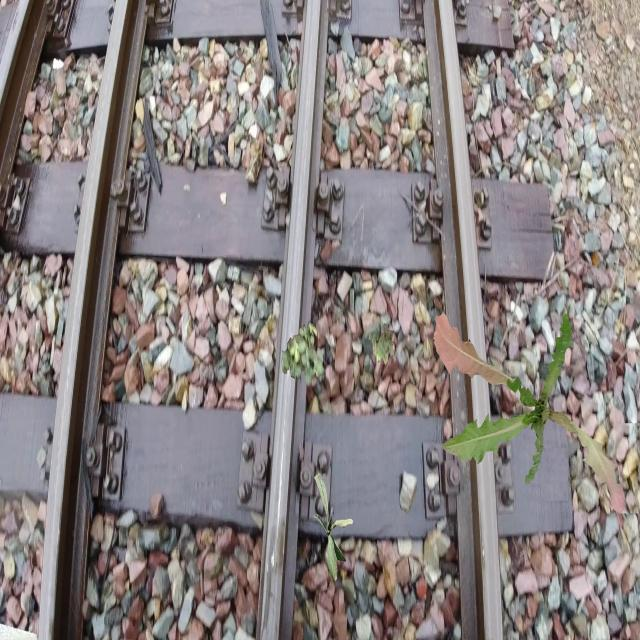Plant: (433, 312, 626, 514), (314, 473, 354, 583), (281, 321, 324, 388), (369, 323, 395, 366)
